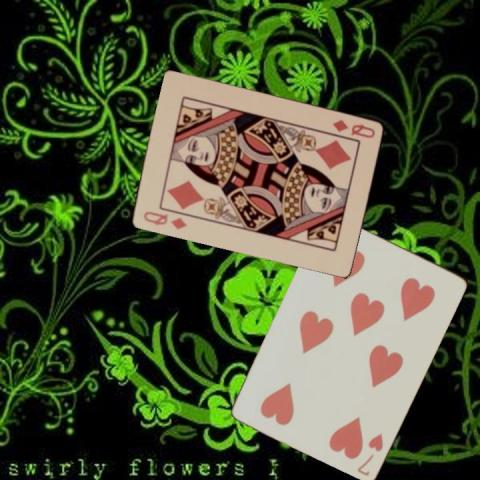7h: (354, 430, 385, 477)
Qd: (141, 207, 189, 231), (330, 116, 377, 139)
